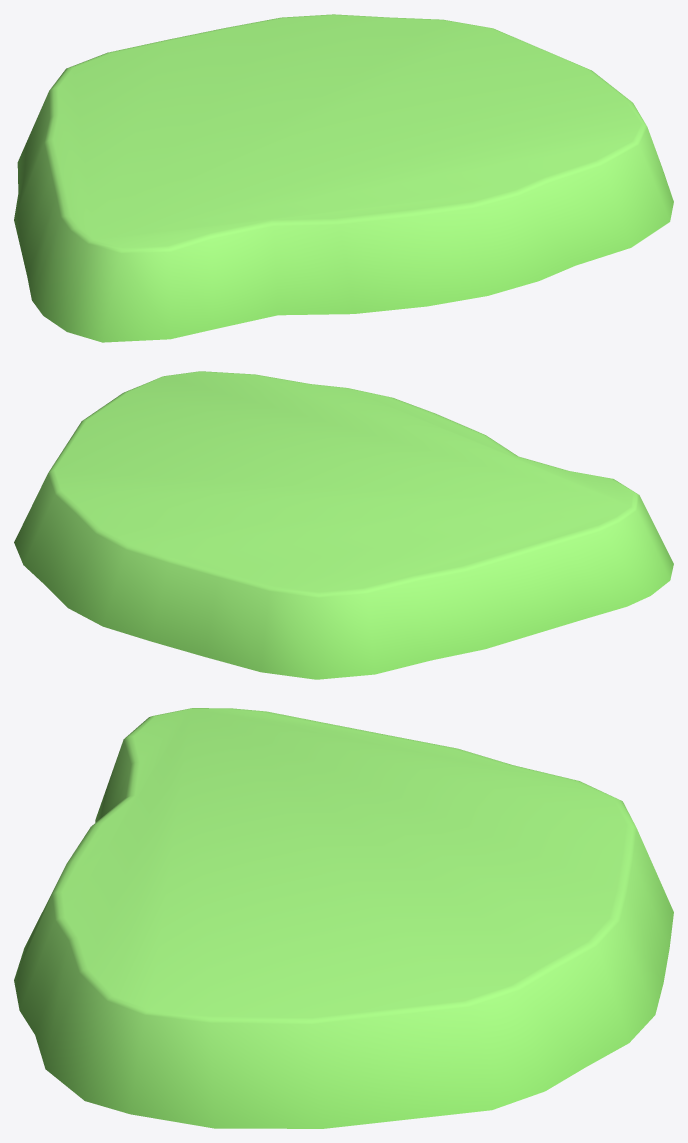
The model's file is Island.fbx.
3 views of the same model, one above another, from view 1: azimuth 30°, elevation 25°; view 2: azimuth 150°, elevation 25°; view 3: azimuth 270°, elevation 25° (orthographic). The views are drawn at different scales.
Visible parts, largest first — view 1: Island; view 2: Island; view 3: Island.
Boxes of the visible parts, left/top/right/bottom form: Island: left=14, top=14, right=673, bottom=342; Island: left=14, top=371, right=673, bottom=679; Island: left=14, top=708, right=673, bottom=1128.
Size of the model in its own units: 33.95 by 4.11 by 27.06.
